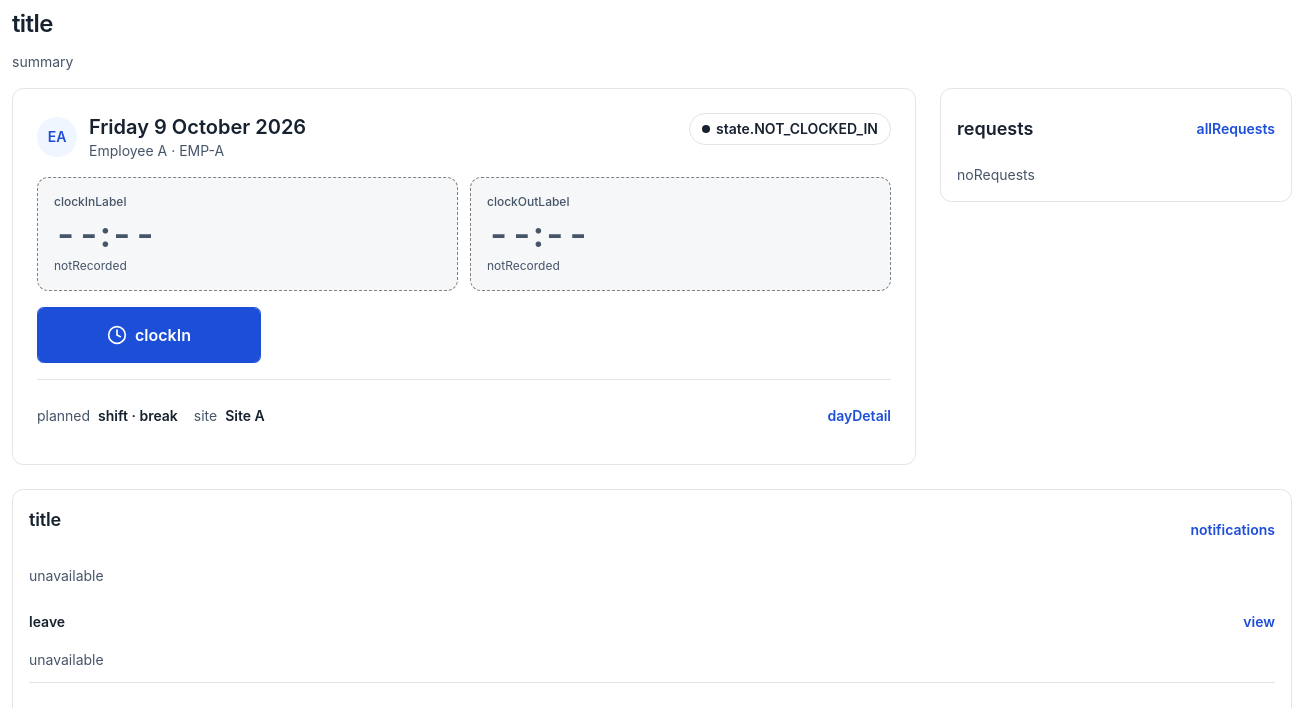
clears an already-saved receipt when the linked employee changes
Click the button with test id "hr-clock-action". click: x=149, y=335
box: [37, 307, 261, 363]
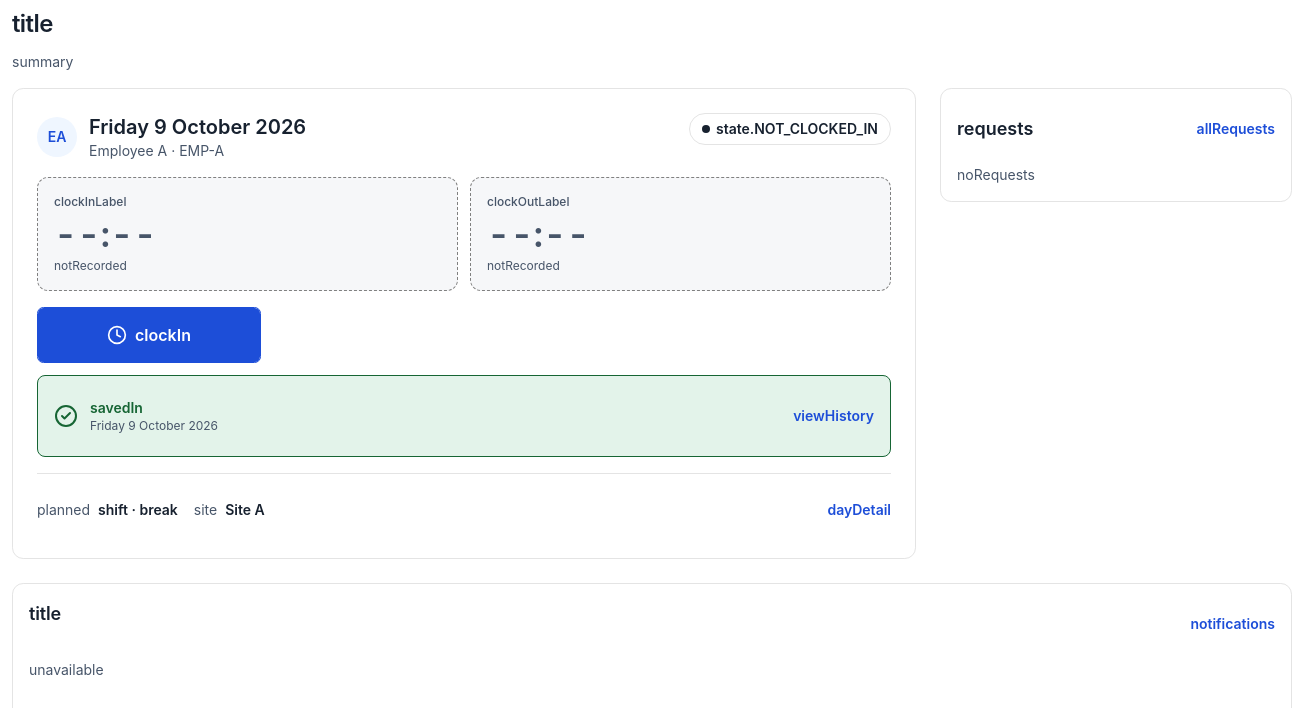
Check: the message "savedIn Friday 9 October 2026 viewHistory" is shown, box [37, 375, 891, 457]
